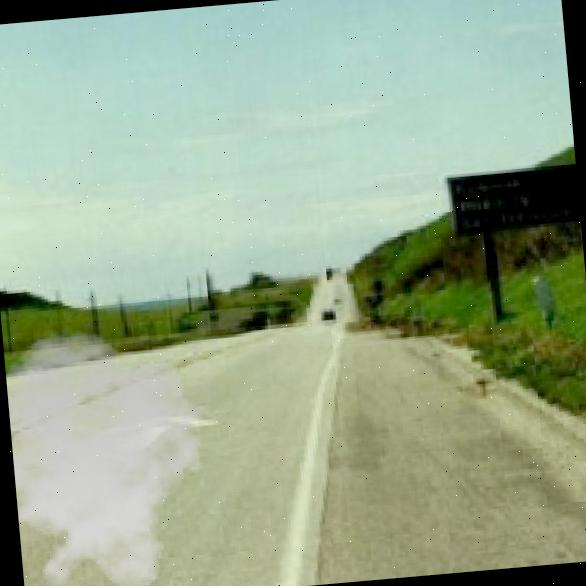smoke: (3, 320, 230, 586)
